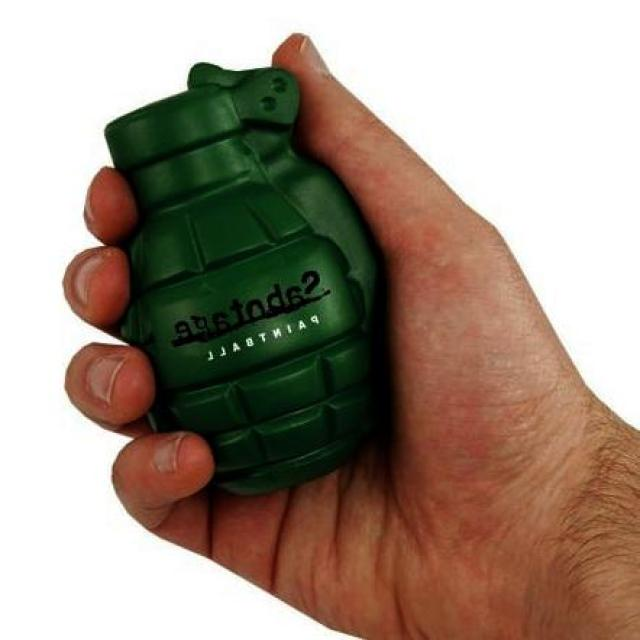grenade: (107, 63, 388, 496)
